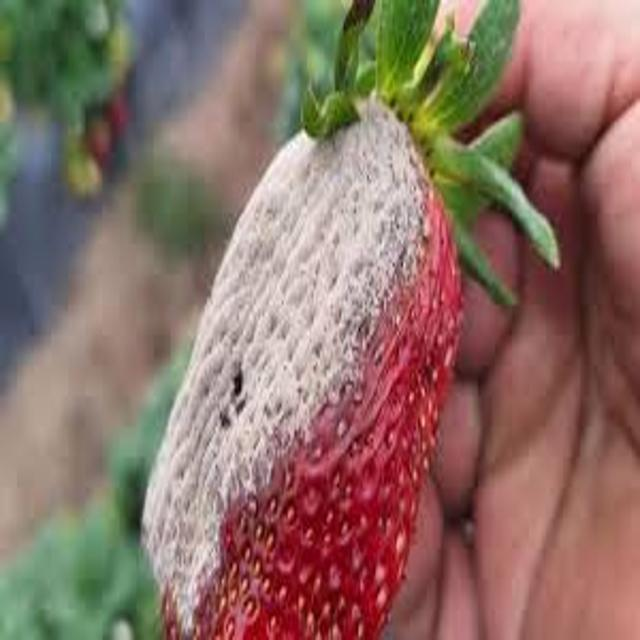Botrytis: (136, 90, 466, 640)
